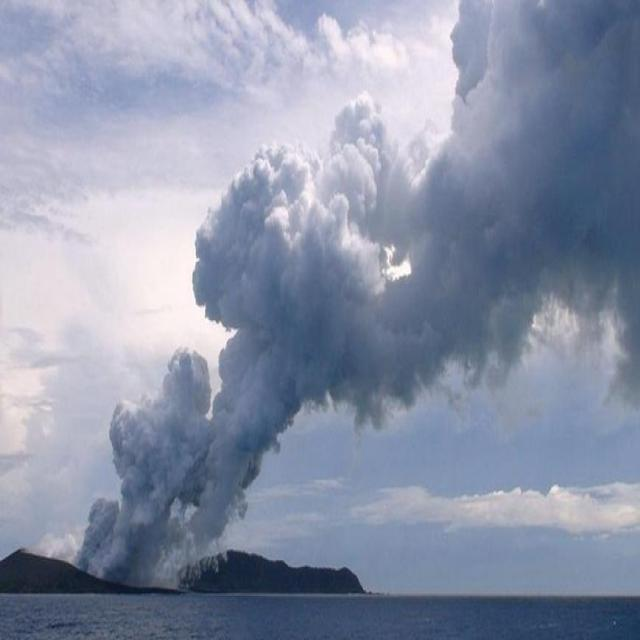Smoke: (31, 1, 640, 590)
